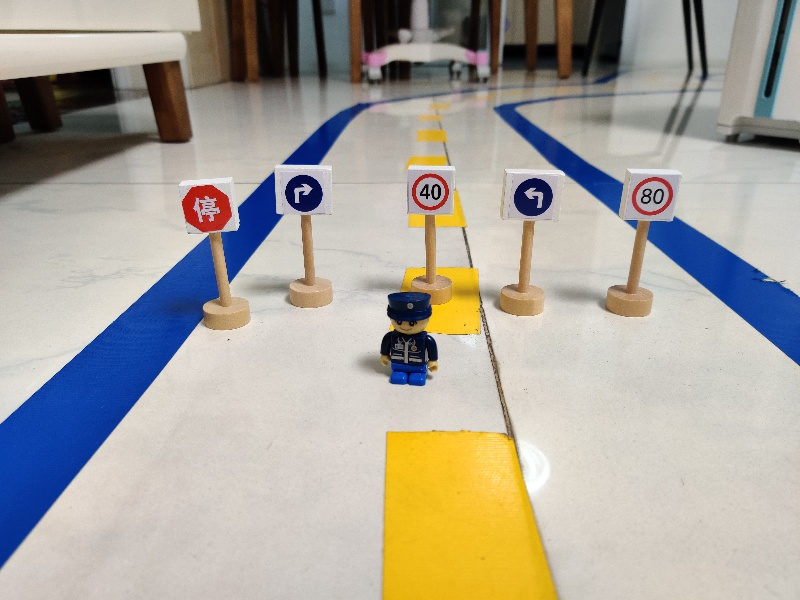limit_40: (404, 165, 457, 216)
limit_80: (615, 166, 684, 223)
person: (371, 285, 444, 390)
stop: (175, 174, 242, 236)
turn_left: (501, 166, 566, 222)
turn_right: (272, 163, 334, 214)
